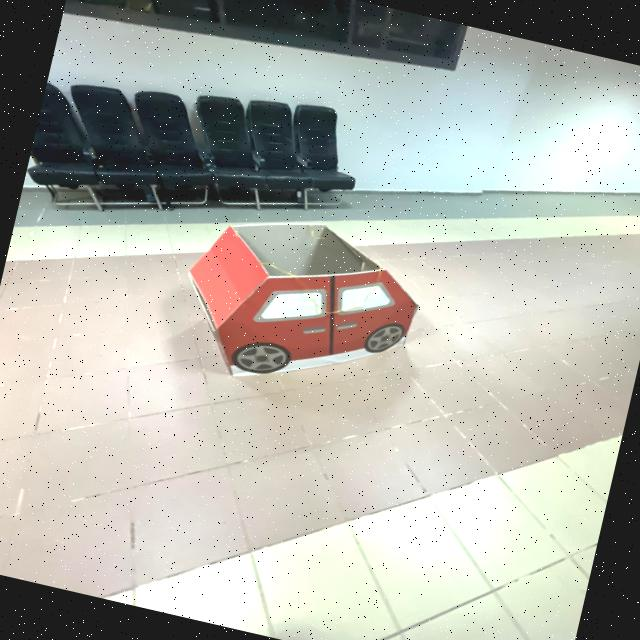red_car: (161, 194, 454, 426)
